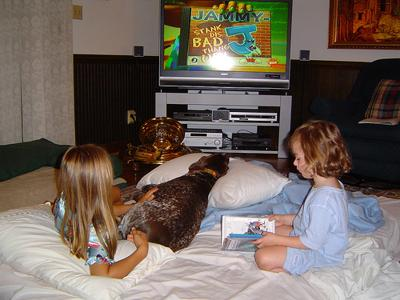person: (54, 143, 160, 282)
